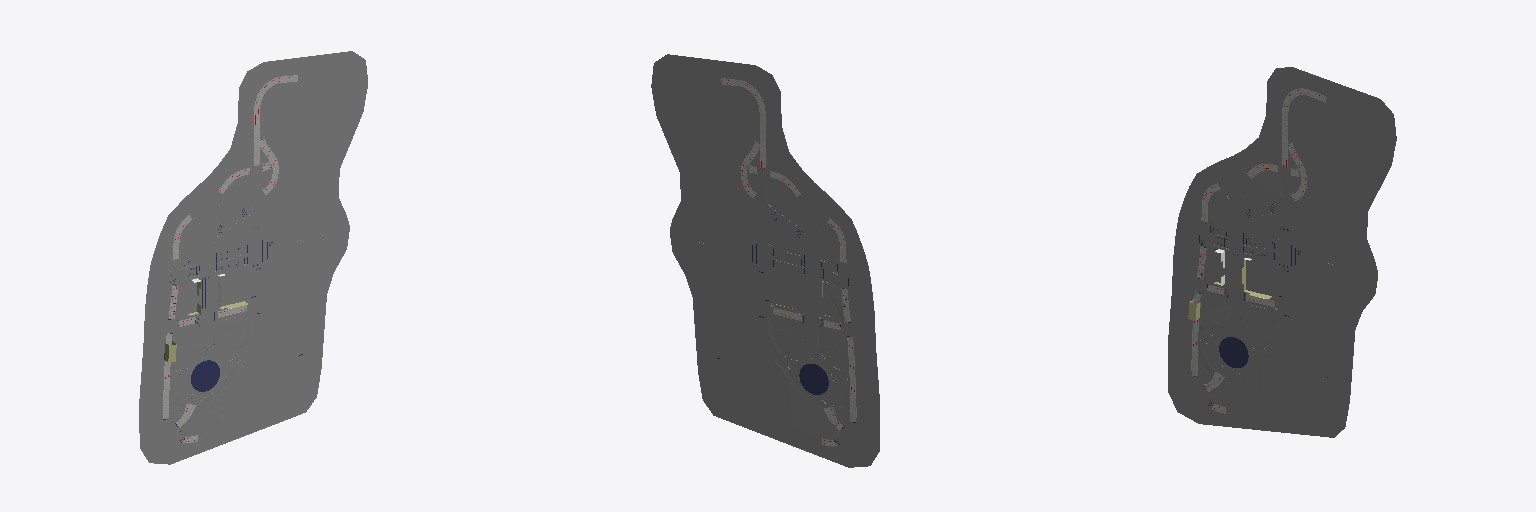
3 renders of one model, left to right at view 1: azimuth 30°, elevation 25°; view 2: azimuth 150°, elevation 25°; view 3: azimuth 330°, elevation 25°, orthographic.
Visible parts, largest first — view 1: Mcity; view 2: Mcity; view 3: Mcity.
Part boxes in pixels (bbox=[...]): Mcity: bbox=[139, 51, 367, 464]; Mcity: bbox=[651, 54, 879, 467]; Mcity: bbox=[1168, 67, 1396, 437].
Size of the model in its own units: 2300 by 3642 by 76.2.
Materials: 15 (1 with a texture image).